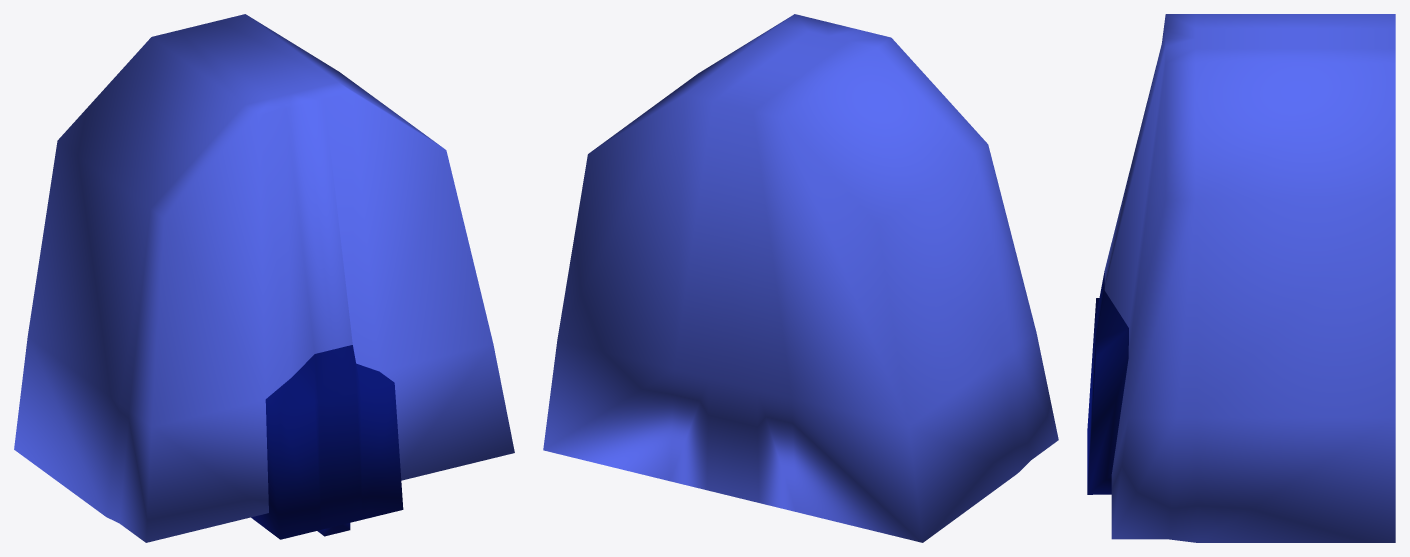
Rendered from SaboneteSuporte.fbx.
3 views of the same model, side by side, from view 1: azimuth 30°, elevation 25°; view 2: azimuth 150°, elevation 25°; view 3: azimuth 270°, elevation 25° (orthographic). The views are drawn at different scales.
Visible parts, largest first — view 1: SaboneteSuporte; view 2: SaboneteSuporte; view 3: SaboneteSuporte.
Boxes of the visible parts, bbox=[...] form: SaboneteSuporte: bbox=[14, 14, 514, 542]; SaboneteSuporte: bbox=[543, 14, 1058, 542]; SaboneteSuporte: bbox=[1087, 14, 1395, 542].
Bounding box in the file's own units: 37.33 × 39.28 × 25.13.
1 material, 1 textured.
